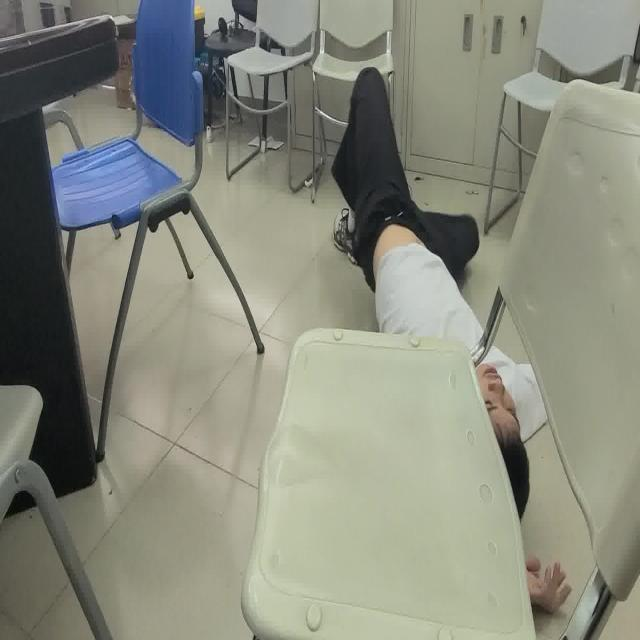Fall-Detected: (329, 63, 570, 597)
